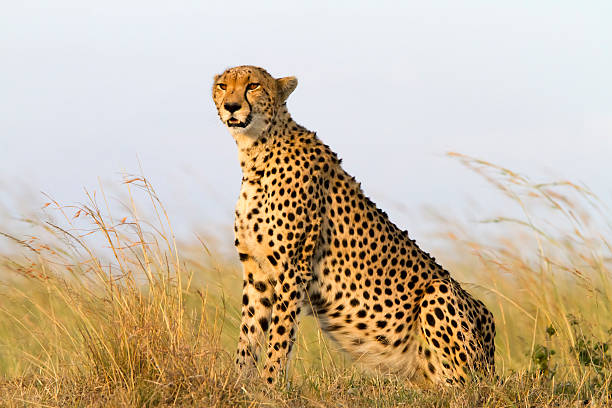cheetah: (198, 62, 300, 141)
